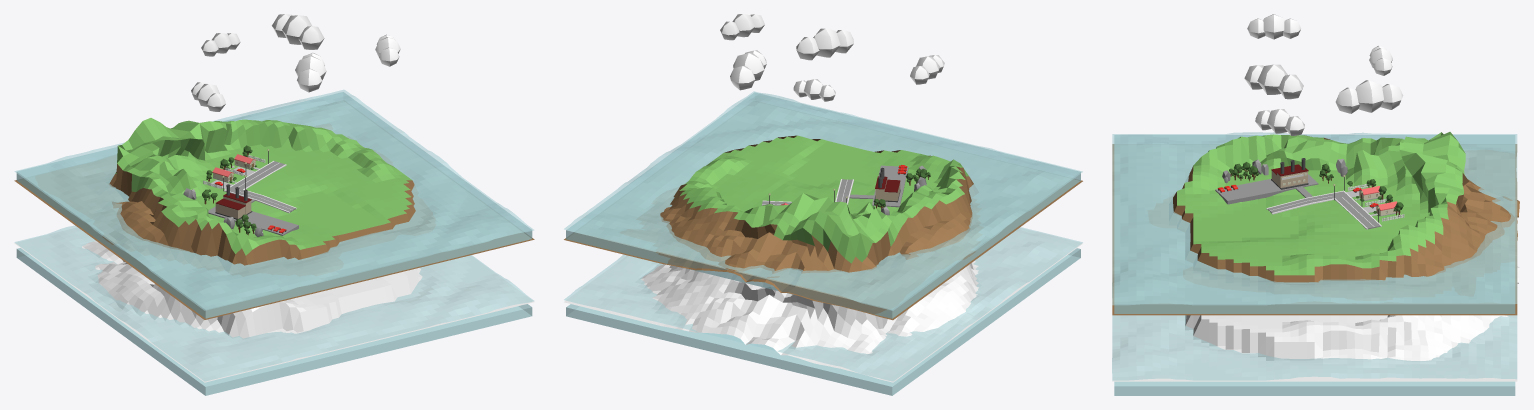
The picture shows the model from 3 angles, left to right: view 1: azimuth 30°, elevation 25°; view 2: azimuth 150°, elevation 25°; view 3: azimuth 270°, elevation 25°; orthographic projection. The views are drawn at different scales.
Visible parts, largest first — view 1: Plane, Cube, Plane.2, Iceberg, Waves.2, Water.2, Cloud.3, Cloud.1, Tube.3, Cube.20, Cloud, Cloud.2 (+1 smaller); view 2: Plane, Cube, Plane.2, Iceberg, Waves.2, Water.2, Cloud.1, Cloud.3, Cloud.4, Cloud, Cloud.2, Tube.3 (+1 smaller); view 3: Plane, Cube, Plane.2, Iceberg, Waves.2, Water.2, Cloud.3, Cloud.1, Cube.20, Cloud, Cloud.4, Tube.3 (+2 smaller).
Part boxes in pixels (x1=…): Plane: x1=14, y1=118, x2=534, y2=319; Cube: x1=16, y1=92, x2=532, y2=318; Plane.2: x1=14, y1=89, x2=533, y2=310; Iceberg: x1=14, y1=227, x2=534, y2=382; Waves.2: x1=14, y1=225, x2=533, y2=381; Water.2: x1=16, y1=248, x2=532, y2=395; Cloud.3: x1=272, y1=14, x2=324, y2=49; Cloud.1: x1=295, y1=53, x2=326, y2=92; Tube.3: x1=215, y1=184, x2=252, y2=219; Cube.20: x1=208, y1=206, x2=298, y2=235; Cloud: x1=191, y1=82, x2=225, y2=111; Cloud.2: x1=201, y1=33, x2=240, y2=56; Plane: x1=564, y1=135, x2=1082, y2=320; Cube: x1=566, y1=92, x2=1080, y2=318; Plane.2: x1=564, y1=91, x2=1082, y2=310; Iceberg: x1=564, y1=228, x2=1082, y2=382; Waves.2: x1=564, y1=227, x2=1082, y2=381; Water.2: x1=566, y1=248, x2=1080, y2=395; Cloud.1: x1=796, y1=28, x2=853, y2=60; Cloud.3: x1=730, y1=50, x2=766, y2=90; Cloud.4: x1=720, y1=14, x2=764, y2=40; Cloud: x1=910, y1=55, x2=944, y2=84; Cloud.2: x1=793, y1=79, x2=835, y2=101; Tube.3: x1=874, y1=167, x2=900, y2=202; Plane: x1=1112, y1=132, x2=1519, y2=315; Cube: x1=1114, y1=135, x2=1515, y2=313; Plane.2: x1=1112, y1=132, x2=1517, y2=305; Iceberg: x1=1112, y1=266, x2=1519, y2=381; Waves.2: x1=1112, y1=315, x2=1517, y2=380; Water.2: x1=1114, y1=381, x2=1515, y2=395; Cloud.3: x1=1335, y1=80, x2=1403, y2=113; Cloud.1: x1=1244, y1=64, x2=1303, y2=99; Cube.20: x1=1215, y1=174, x2=1318, y2=204; Cloud: x1=1247, y1=14, x2=1301, y2=39; Cloud.4: x1=1255, y1=109, x2=1304, y2=135; Tube.3: x1=1271, y1=158, x2=1308, y2=189.
Bounding box in the file's own units: 5003 × 3490 × 5034.
